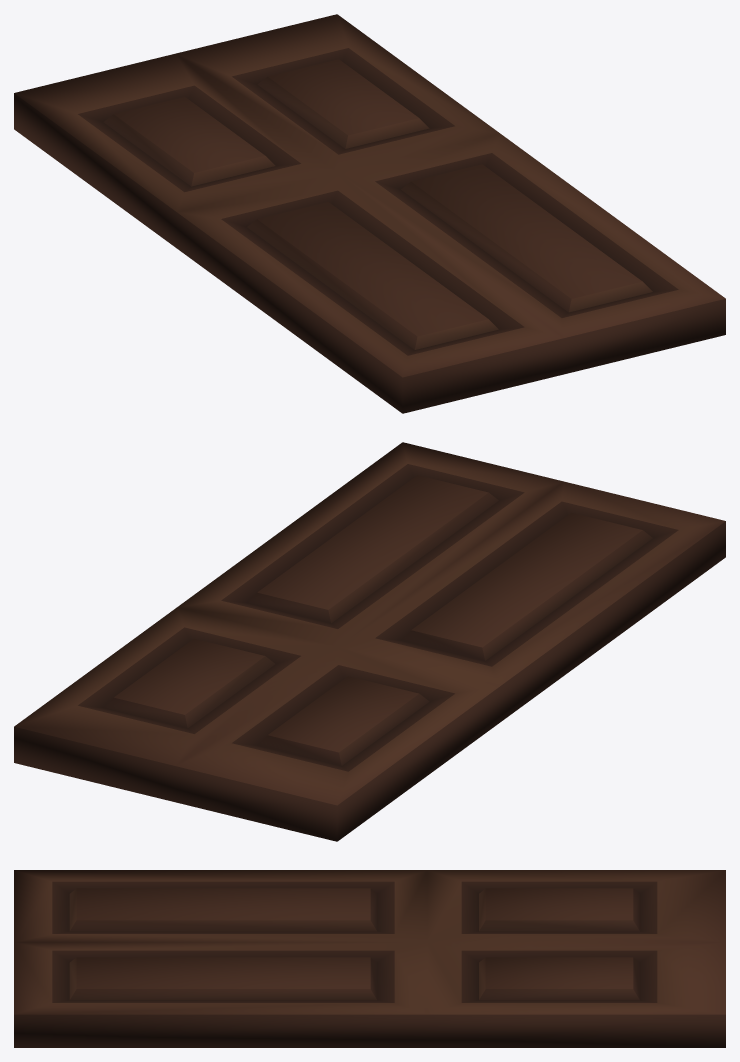
File: door.glb
3 renders of one model, top to bottom at view 1: azimuth 30°, elevation 25°; view 2: azimuth 150°, elevation 25°; view 3: azimuth 270°, elevation 25°, orthographic. The views are drawn at different scales.
Visible parts, largest first — view 1: base.010; view 2: base.010; view 3: base.010.
Boxes of the visible parts, x1,y1,x2,y2 form: base.010: (14, 14, 725, 413); base.010: (14, 442, 725, 841); base.010: (14, 870, 725, 1047).
Bounding box in the file's own units: 0.6491 × 0.0849 × 1.35.
